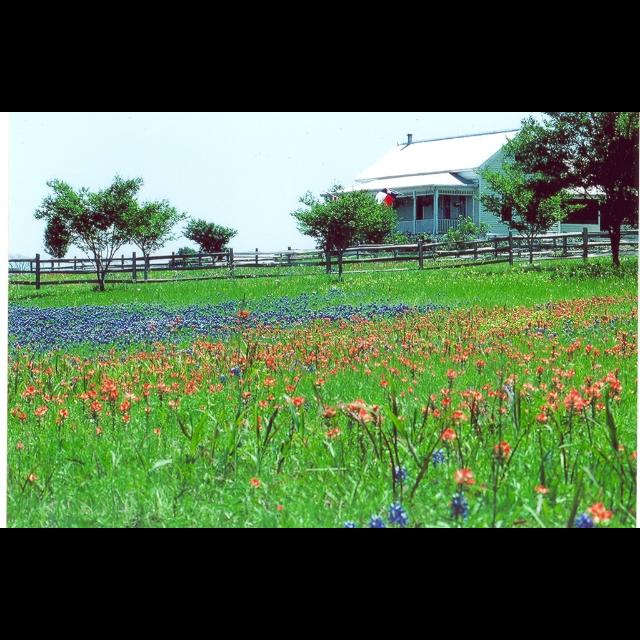Flower: (8, 290, 640, 528), (454, 468, 474, 488)
